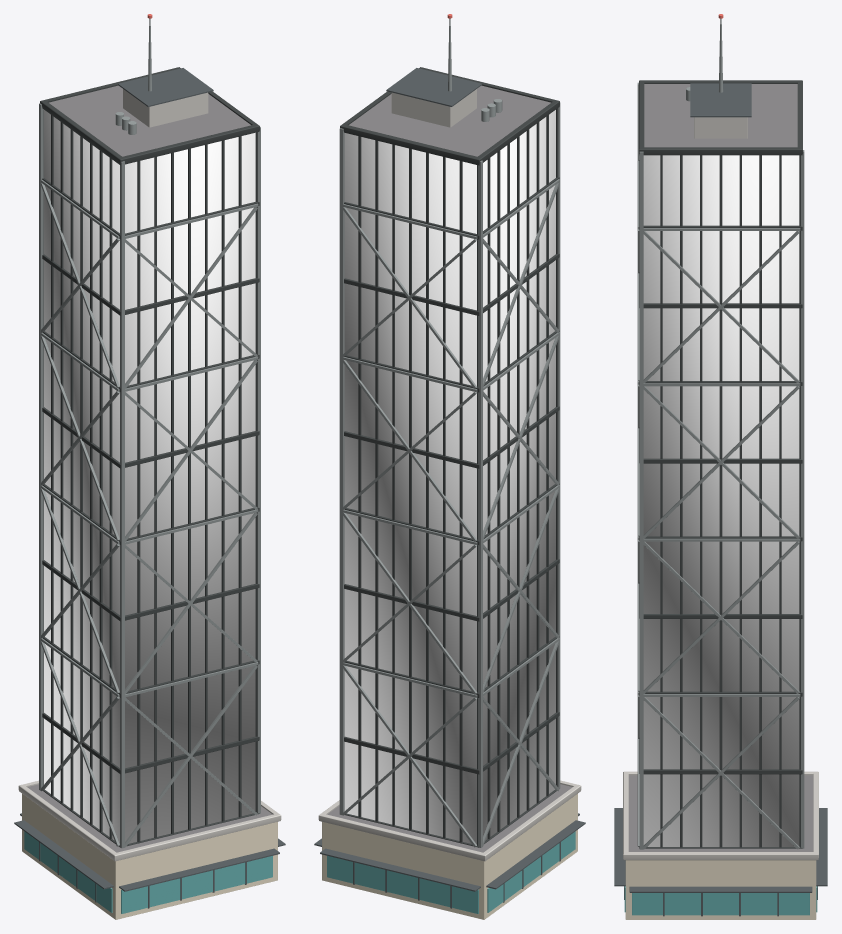
File: tower_lattice.glb
3 renders of one model, left to right at view 1: azimuth 30°, elevation 25°; view 2: azimuth 150°, elevation 25°; view 3: azimuth 270°, elevation 25°, orthographic.
Parts seen in each view (by area): view 1: curtain, mullions, tower trim, tower props; view 2: curtain, mullions, tower trim, tower props; view 3: curtain, mullions, tower trim, tower props.
Boxes of the visible parts, <box> form: curtain: <box>44,110,255,844</box>; mullions: <box>39,103,260,908</box>; tower trim: <box>18,67,281,919</box>; tower props: <box>14,14,285,913</box>; curtain: <box>344,110,555,844</box>; mullions: <box>339,102,560,908</box>; tower trim: <box>318,67,581,919</box>; tower props: <box>314,14,585,913</box>; curtain: <box>643,155,799,846</box>; mullions: <box>624,82,817,916</box>; tower trim: <box>623,80,818,919</box>; tower props: <box>614,14,827,915</box>.
Size of the model in its own units: 26.9 by 120 by 26.9.
